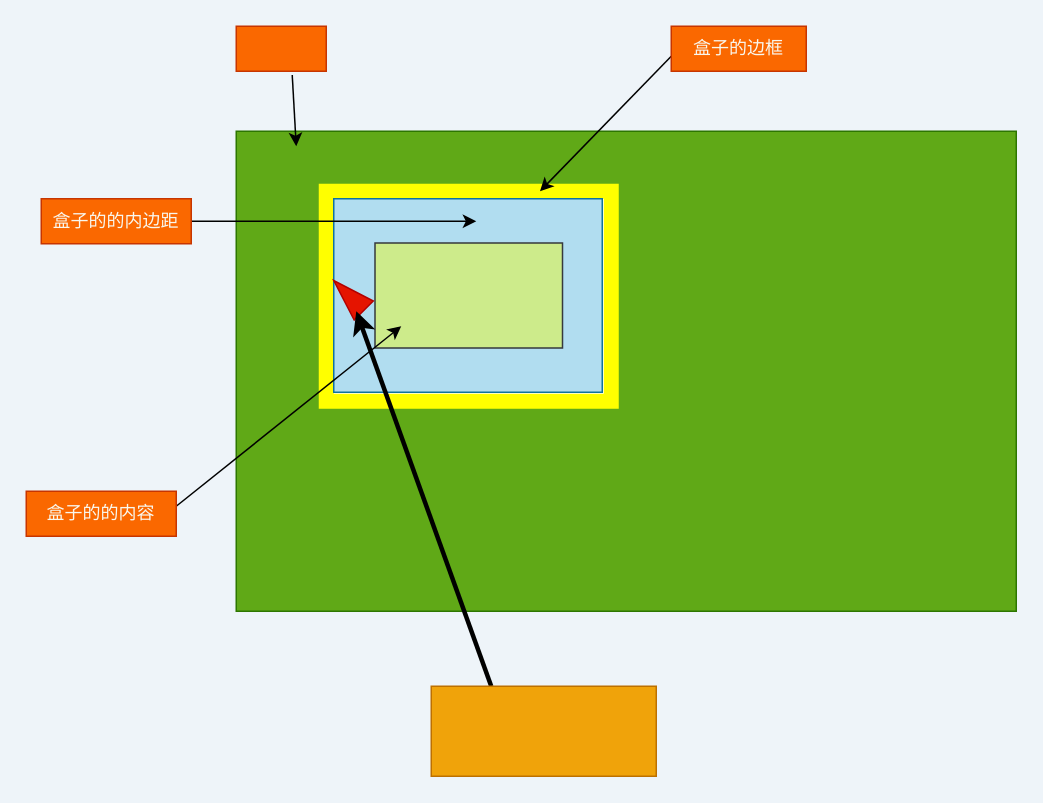
This 1043x803 diagram has some shape labels left out. Each missing label, with the box of its shape:
整个页面: (235, 25, 326, 71)
红色的鼠标尖部才是 offsetX的起始位置 offsetY的此时值为0: (430, 685, 656, 776)
